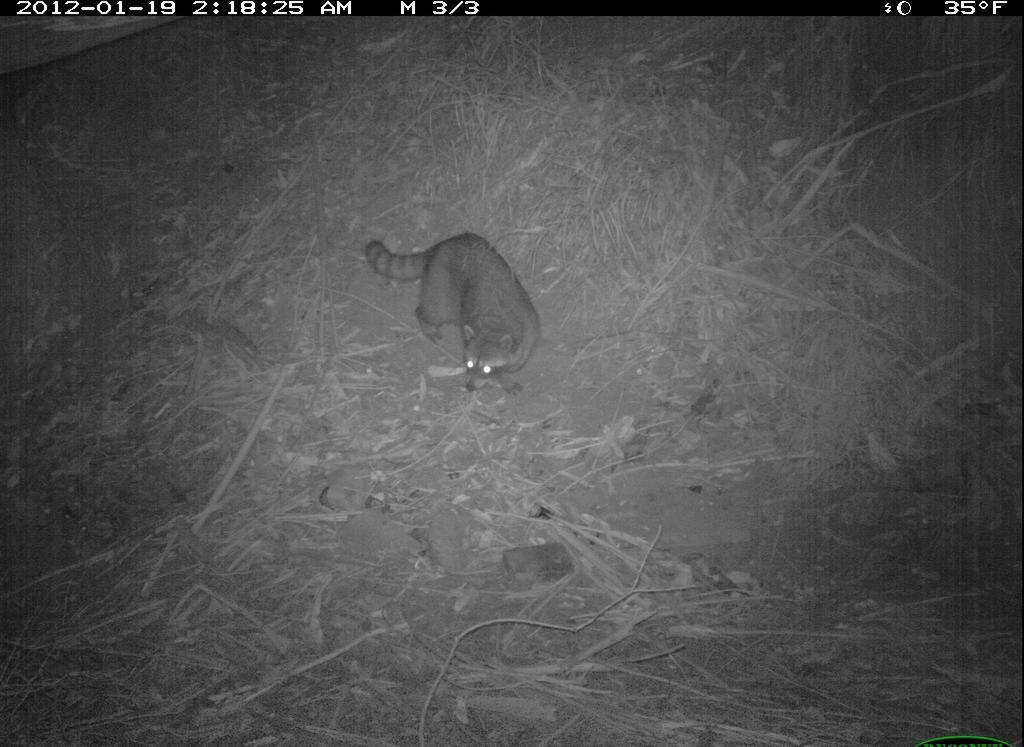raccoon: (344, 214, 564, 405)
